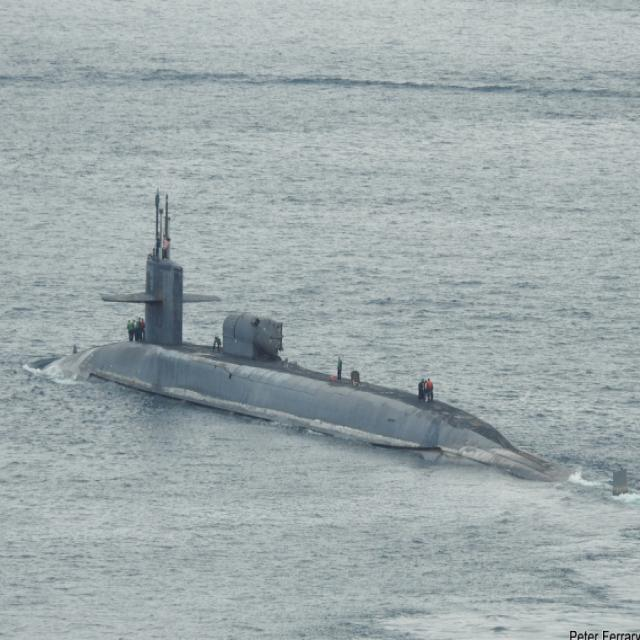submarine: (81, 185, 634, 502)
